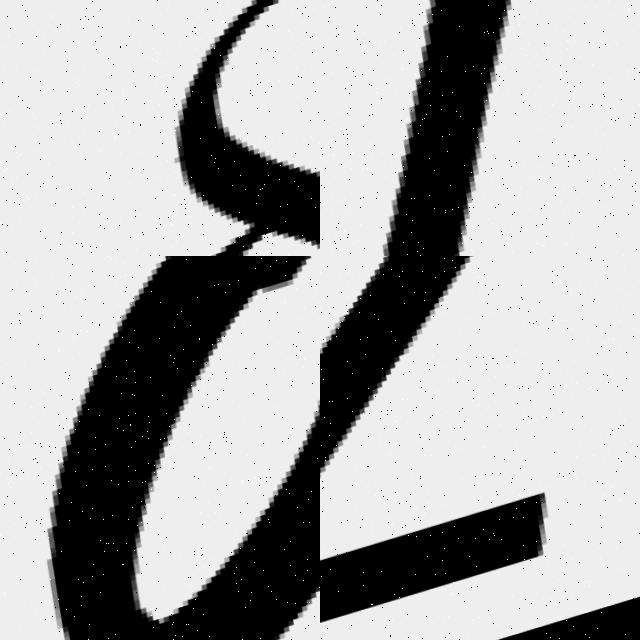0: (0, 256, 320, 640)
1: (320, 0, 640, 256)
8: (0, 0, 320, 256)
Z: (320, 256, 640, 640)
